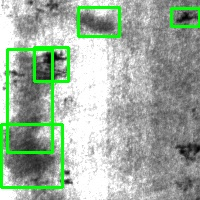inclusion: (34, 47, 68, 81), (171, 8, 199, 26)
patches: (7, 49, 52, 152), (1, 124, 62, 187), (78, 8, 119, 36)
